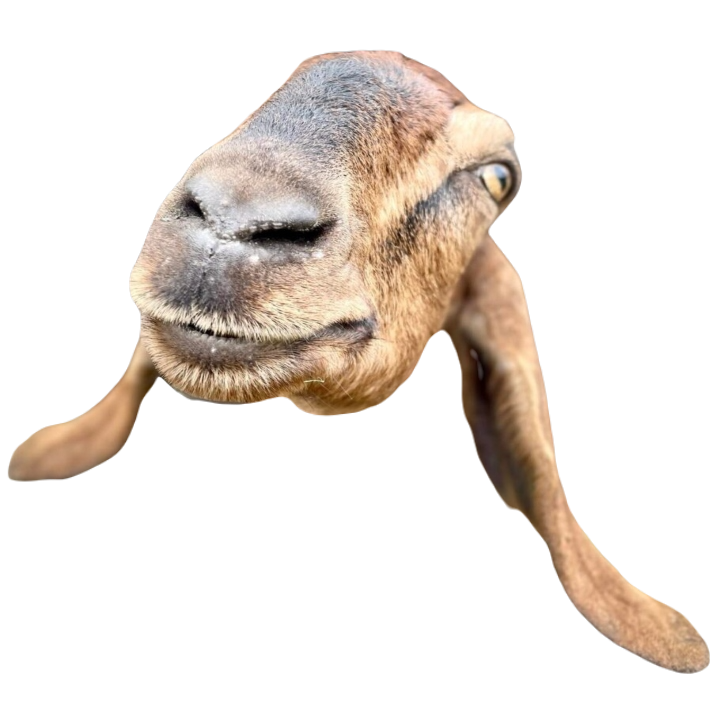Goat: (6, 49, 718, 673)
